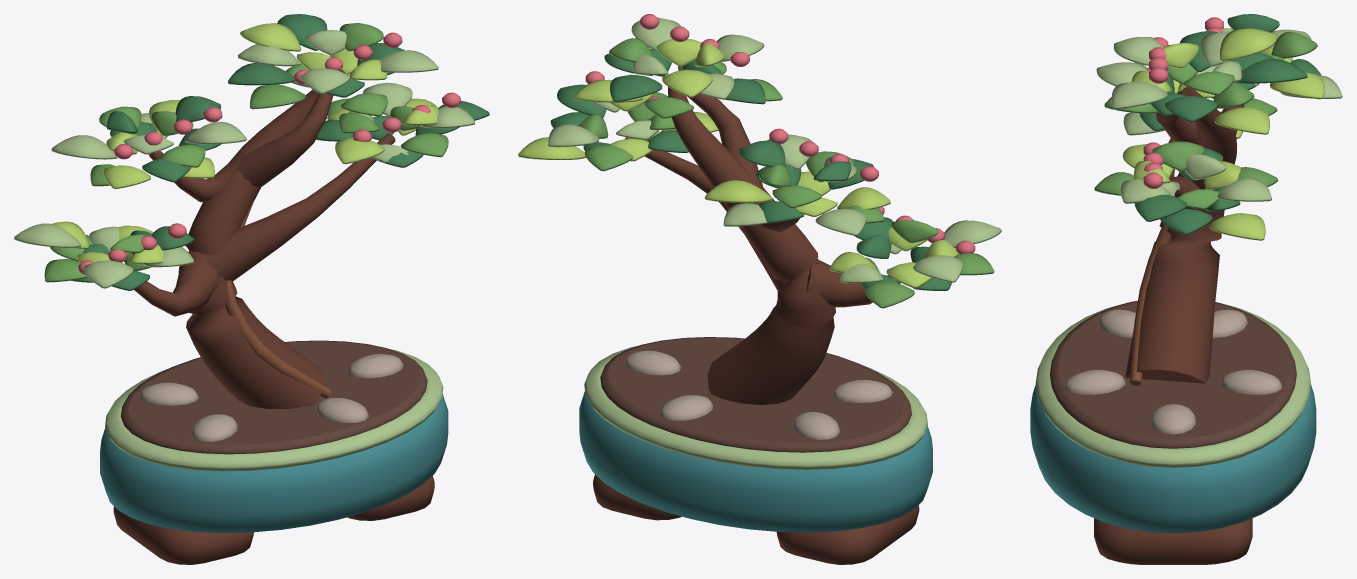
The model's file is atelier_bonsai.glb.
3 views of the same model, side by side, from view 1: azimuth 30°, elevation 25°; view 2: azimuth 150°, elevation 25°; view 3: azimuth 270°, elevation 25° (orthographic). The views are drawn at different scales.
Parts seen in each view (by area): view 1: Bonsái florecido; view 2: Bonsái florecido; view 3: Bonsái florecido.
Boxes of the visible parts, bbox=[...] form: Bonsái florecido: bbox=[14, 14, 489, 564]; Bonsái florecido: bbox=[518, 14, 1001, 564]; Bonsái florecido: bbox=[1030, 14, 1342, 564].
Bounding box in the file's own units: 0.9071 × 0.919 × 0.5307.
